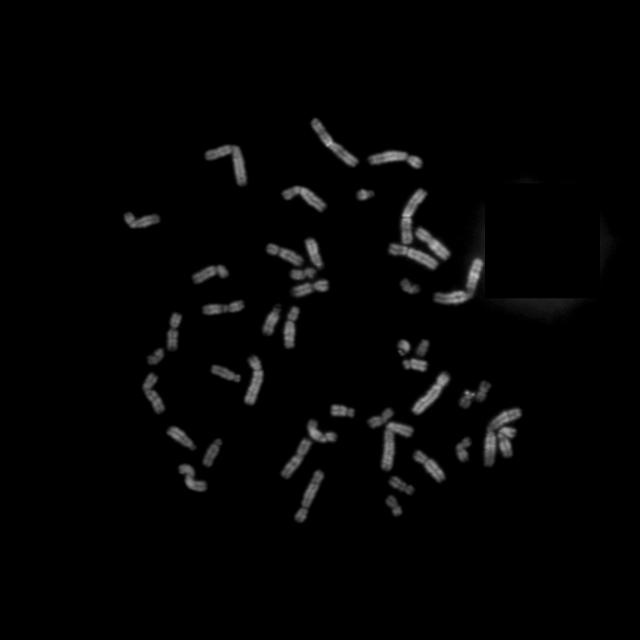chromosome: (310, 119, 358, 170), (435, 257, 485, 305), (483, 408, 521, 467), (204, 142, 250, 188), (411, 371, 451, 415), (381, 422, 414, 470), (295, 470, 325, 522), (401, 188, 427, 246), (388, 243, 438, 270), (279, 438, 311, 479), (282, 185, 328, 213), (415, 227, 451, 261), (412, 450, 446, 484), (368, 150, 424, 170), (243, 355, 264, 407), (142, 372, 166, 414), (266, 243, 304, 267), (177, 463, 208, 492), (122, 208, 162, 230), (202, 298, 246, 318), (284, 305, 302, 349), (166, 426, 196, 452), (307, 419, 339, 443), (192, 264, 230, 284), (292, 277, 330, 297), (497, 426, 519, 460), (203, 437, 225, 468), (166, 311, 182, 351), (304, 238, 324, 268), (367, 408, 395, 429), (262, 304, 280, 336), (210, 364, 242, 382), (388, 476, 414, 496), (456, 437, 472, 461), (476, 381, 492, 404), (290, 268, 316, 282), (458, 390, 476, 410), (385, 495, 403, 515), (331, 404, 355, 418), (400, 280, 420, 296), (414, 338, 430, 358), (402, 359, 428, 371), (148, 348, 165, 364), (357, 188, 375, 200), (398, 339, 410, 357)
